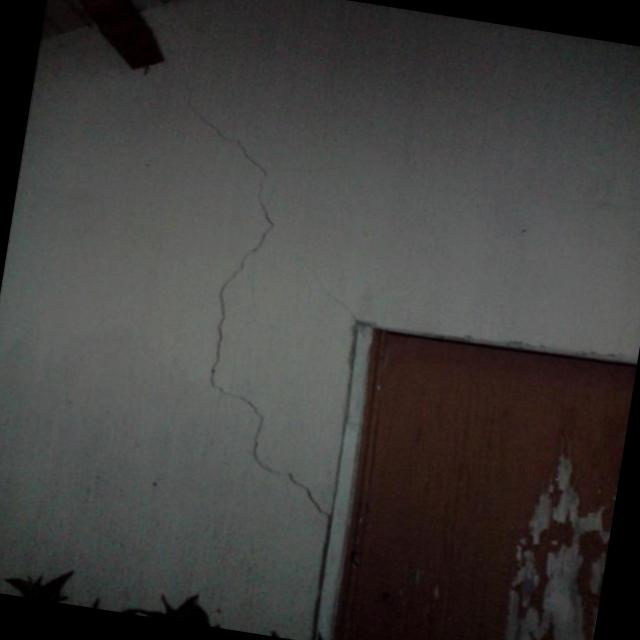crack: (183, 81, 331, 635), (308, 255, 370, 322)
